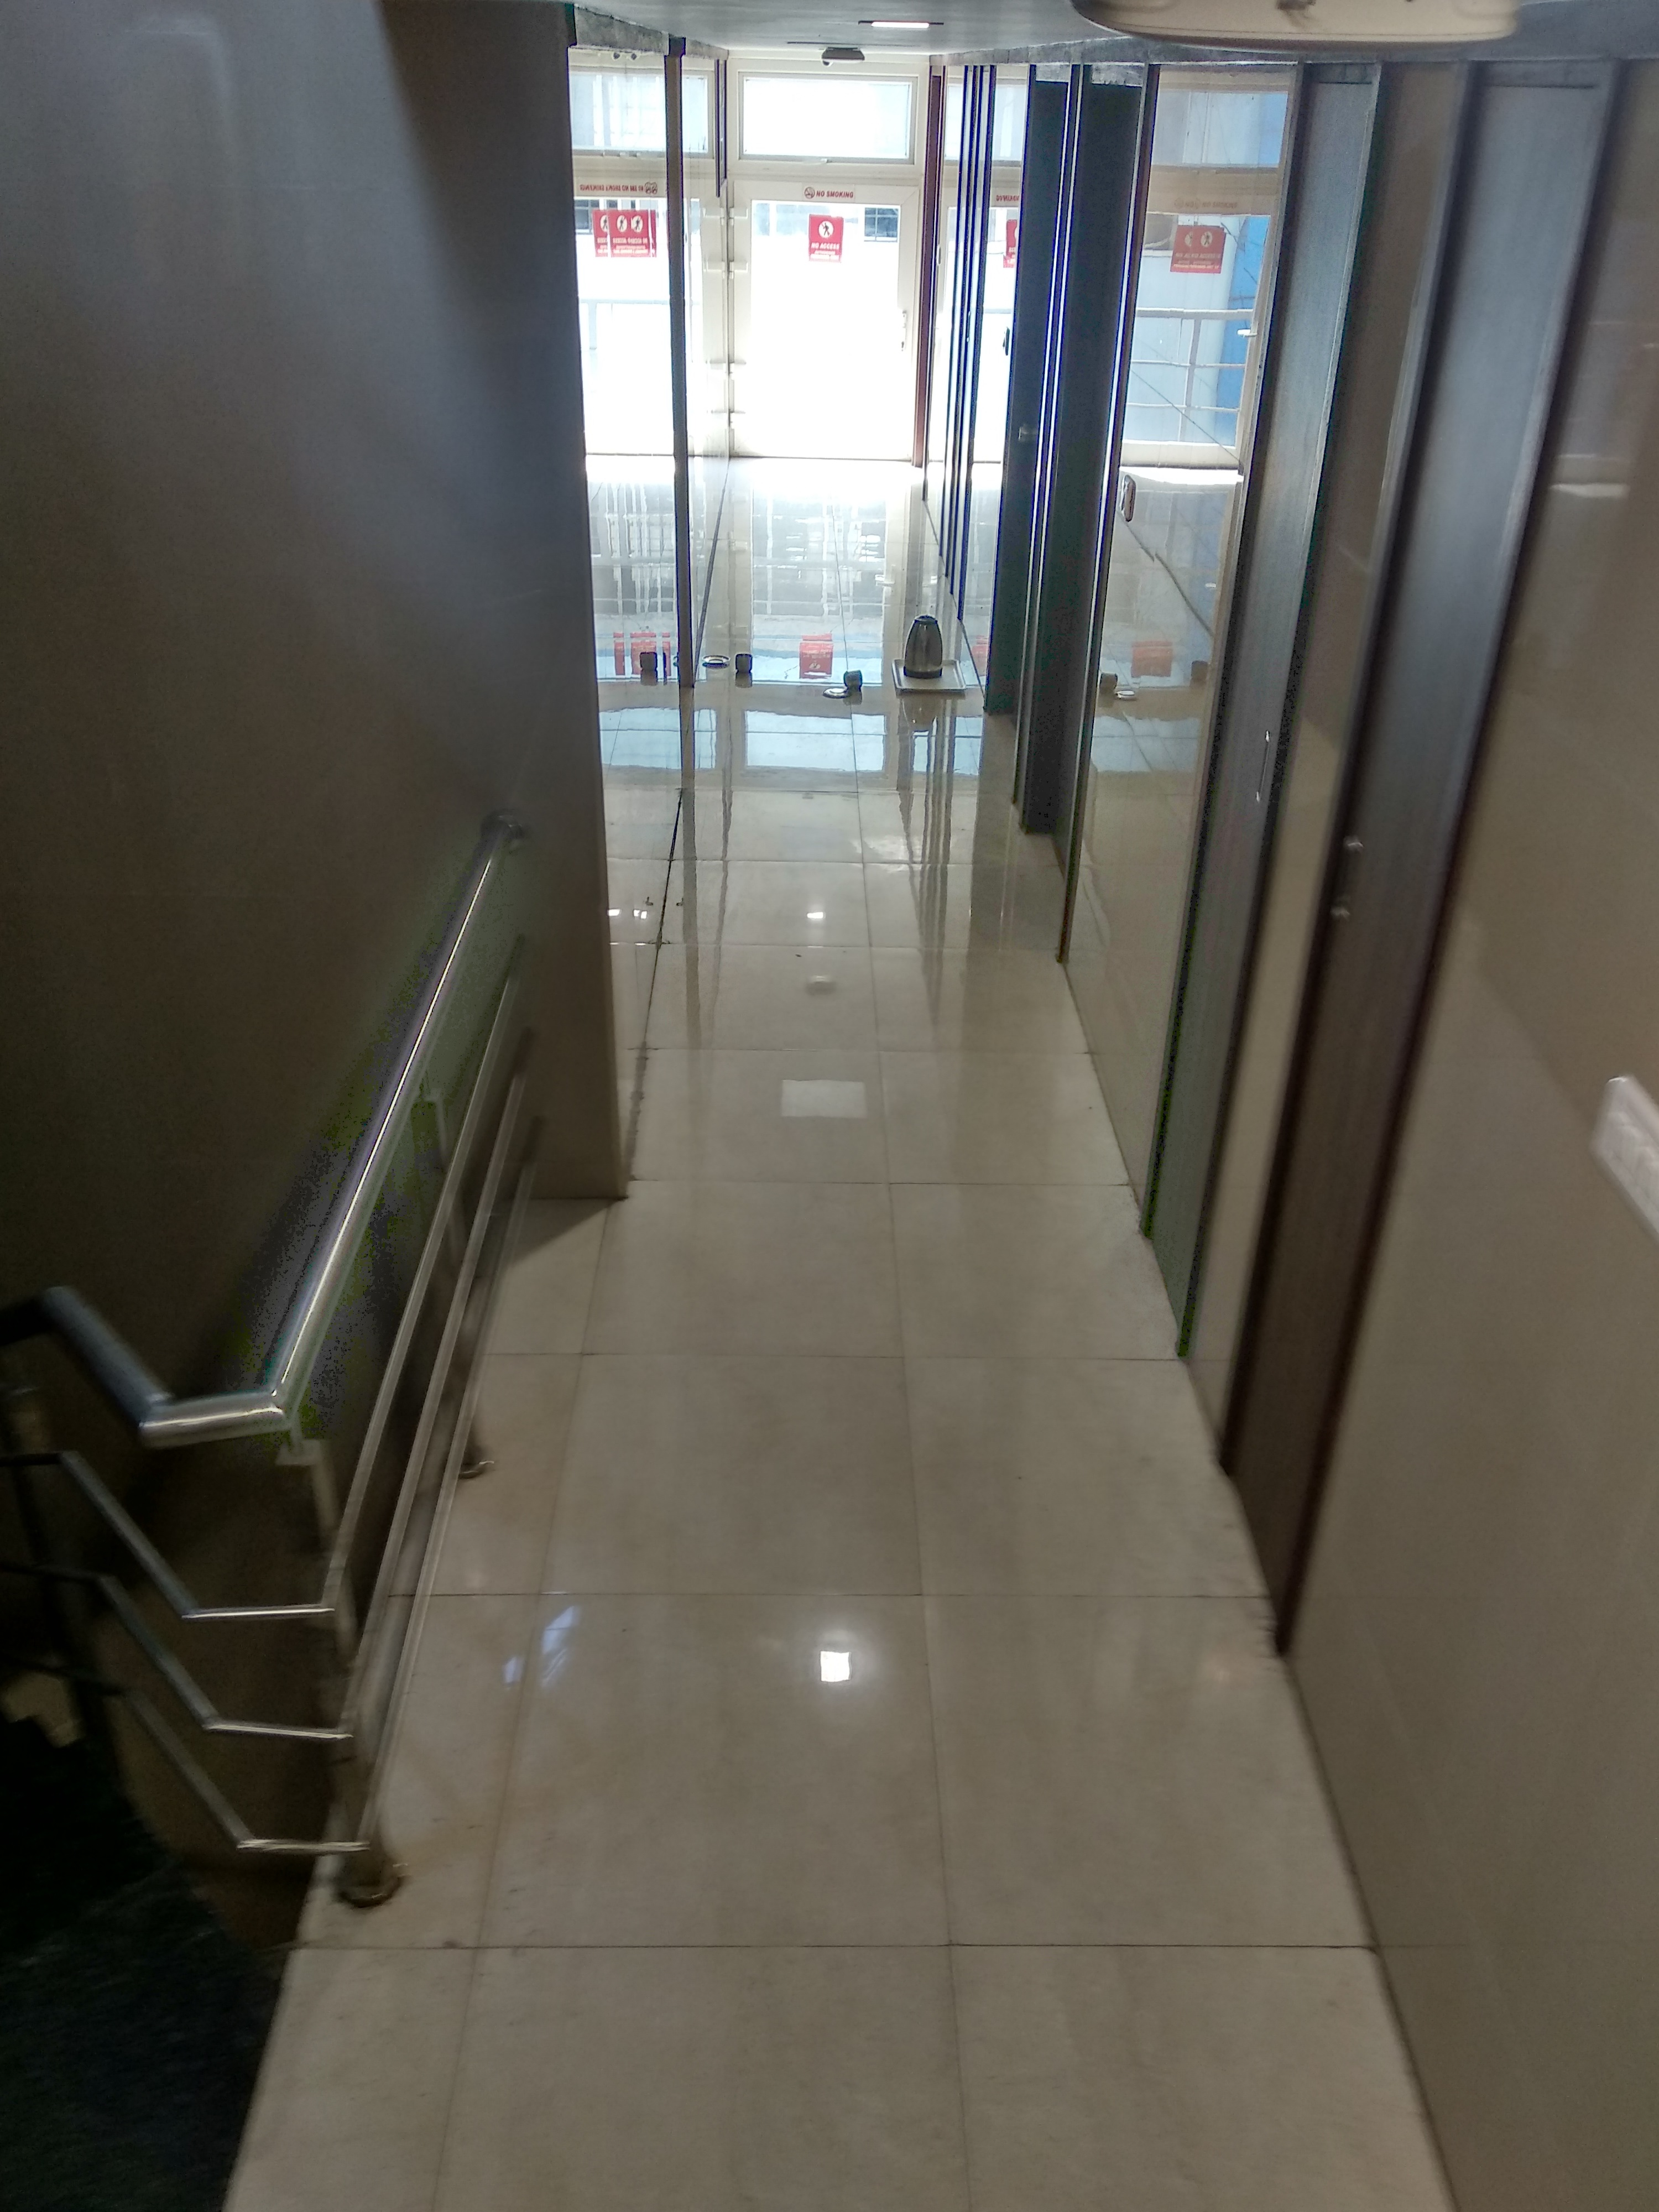CUP: (838, 667, 868, 691), (735, 651, 755, 674)
JUG: (903, 610, 948, 681)
